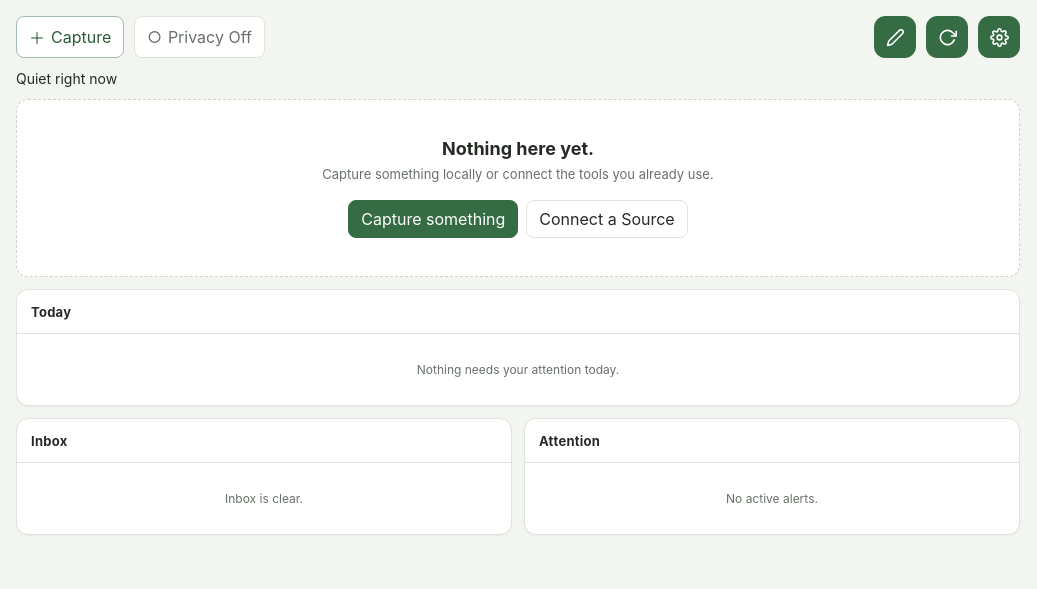
does not hide a dashboard refresh failure after sync
Click the button named "Sync". click: [947, 37]
box: [926,16,968,58]
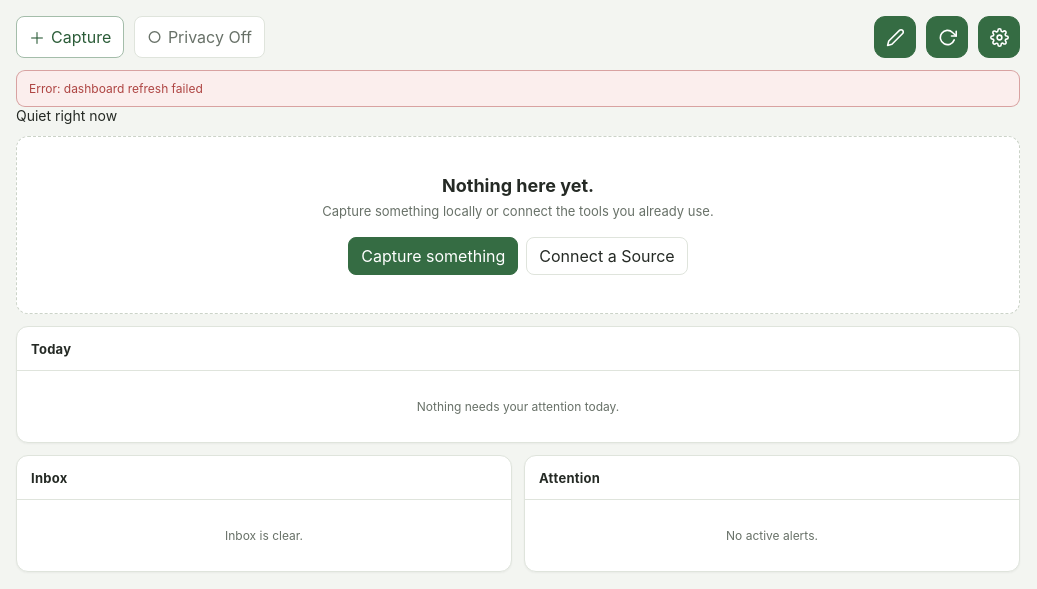
Check: the text "Error: dashboard refresh failed" is shown, box [16,70,1020,107]
